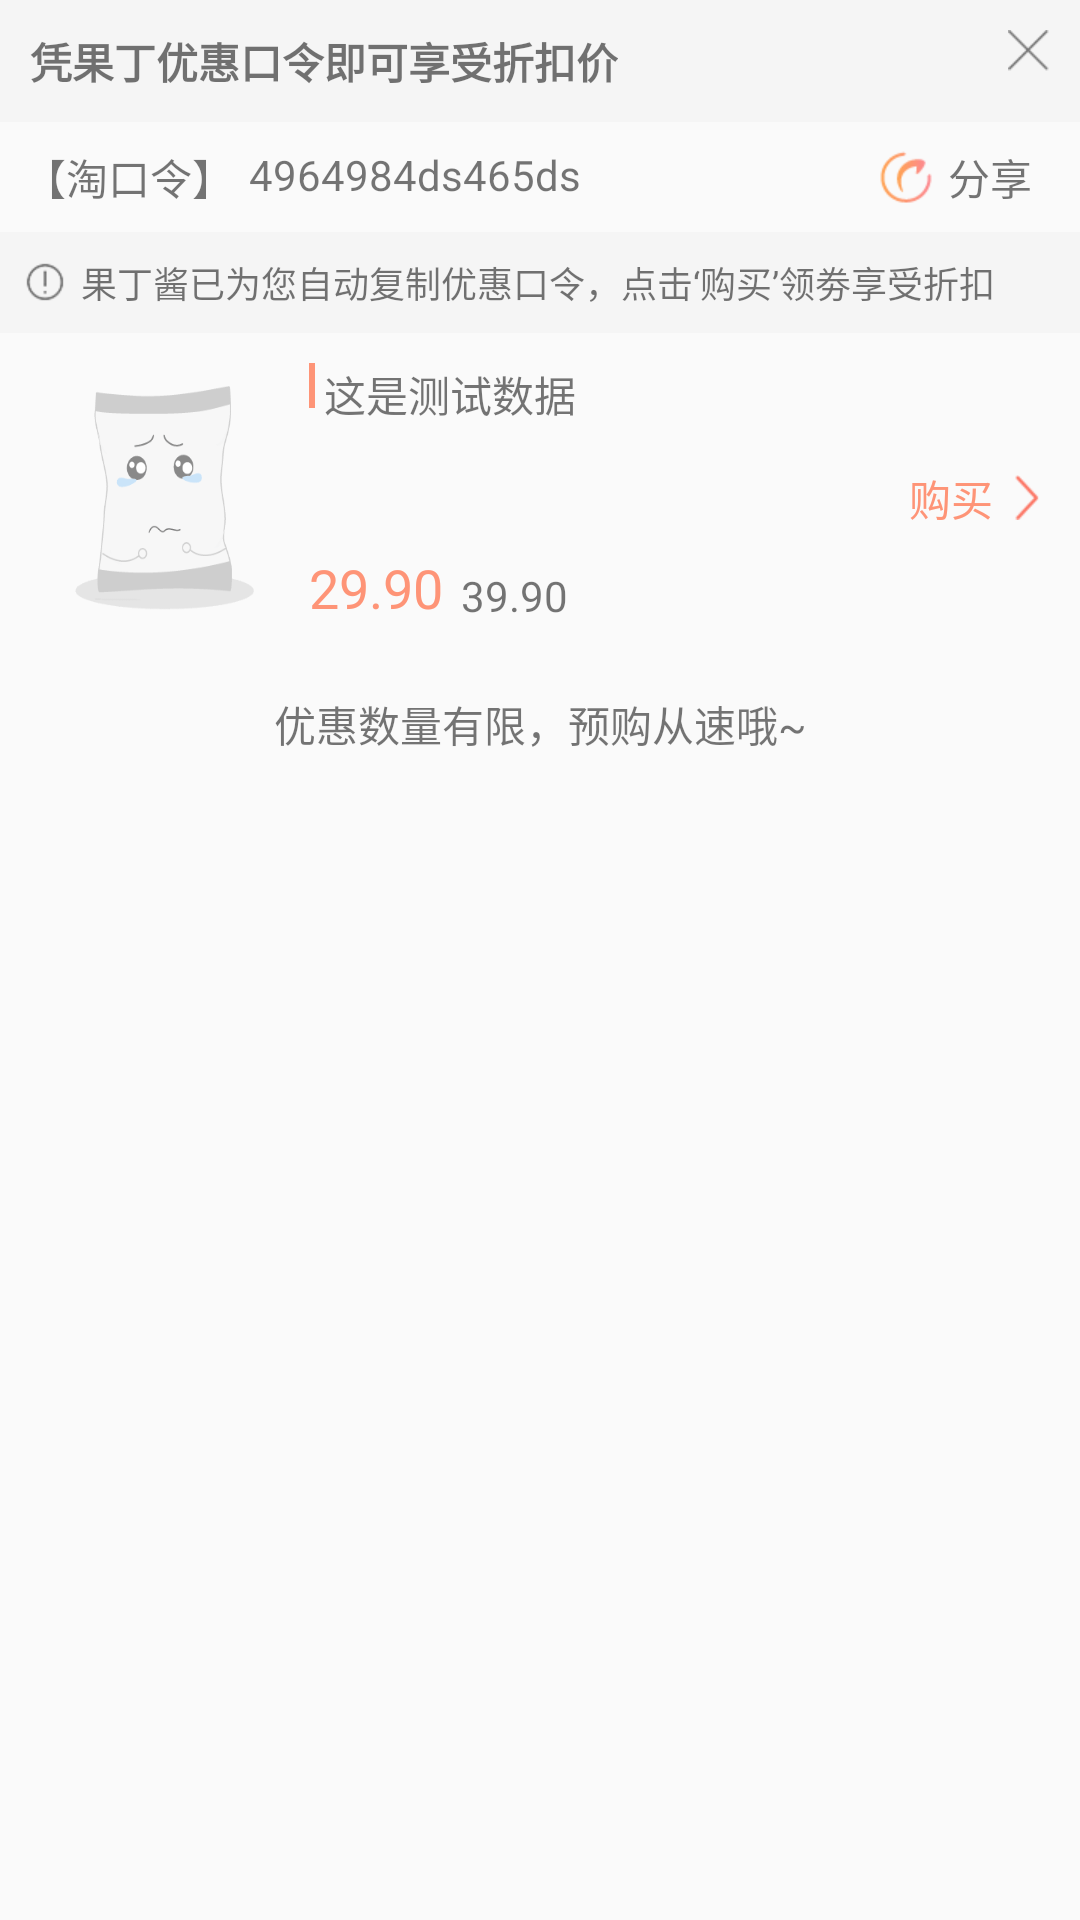

Icons on this 1080px×1920px Android screen, each with its box as [x1=x1, y1=y1, x2=x2, y2=y2]:
discount close: [x1=1008, y1=30, x2=1048, y2=70]
nologined: [x1=95, y1=386, x2=232, y2=600]
